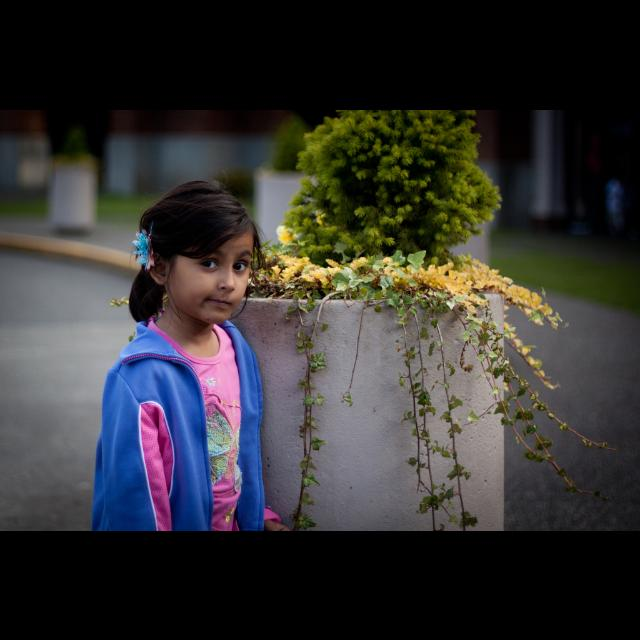Flower: (258, 244, 504, 296), (276, 219, 306, 247), (133, 230, 153, 270), (314, 210, 332, 222)
